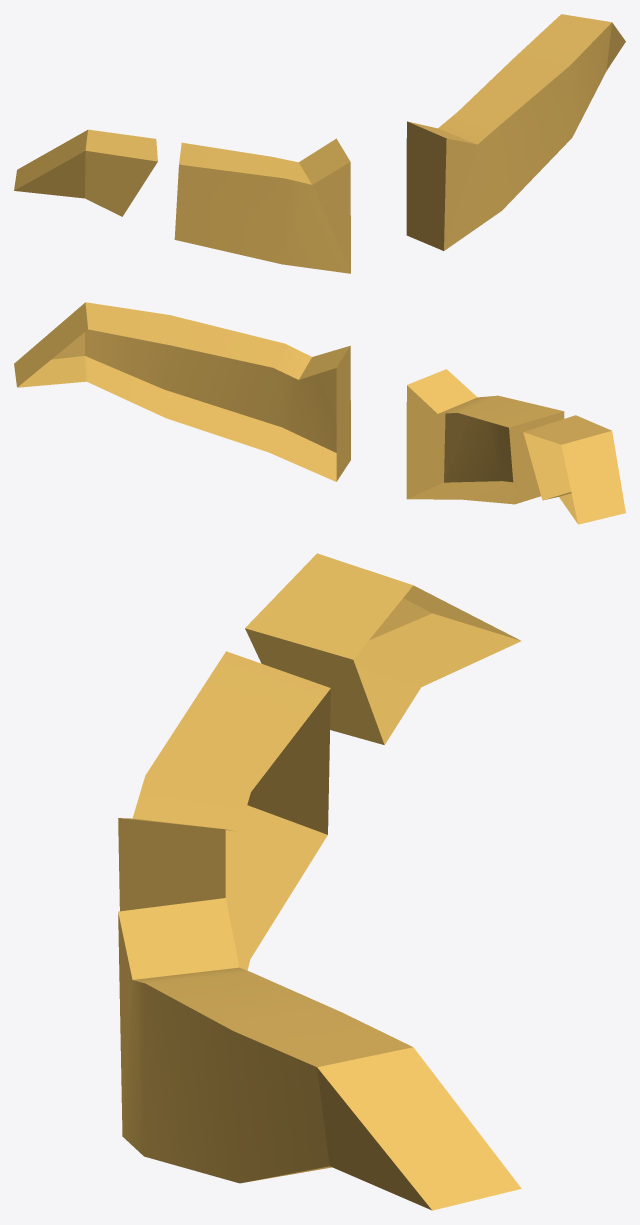
Rendered from Brow_Yellow_9.fbx.
3 renders of one model, top to bottom at view 1: azimuth 30°, elevation 25°; view 2: azimuth 150°, elevation 25°; view 3: azimuth 270°, elevation 25°, orthographic. The views are drawn at different scales.
Visible parts, largest first — view 1: Brow_Yellow_9; view 2: Brow_Yellow_9; view 3: Brow_Yellow_9.
Part boxes in pixels (x1=…): Brow_Yellow_9: x1=14, y1=14, x2=625, y2=273; Brow_Yellow_9: x1=14, y1=302, x2=625, y2=524; Brow_Yellow_9: x1=118, y1=553, x2=521, y2=1210.
Size of the model in its own units: 41.99 by 9.24 by 11.99.
